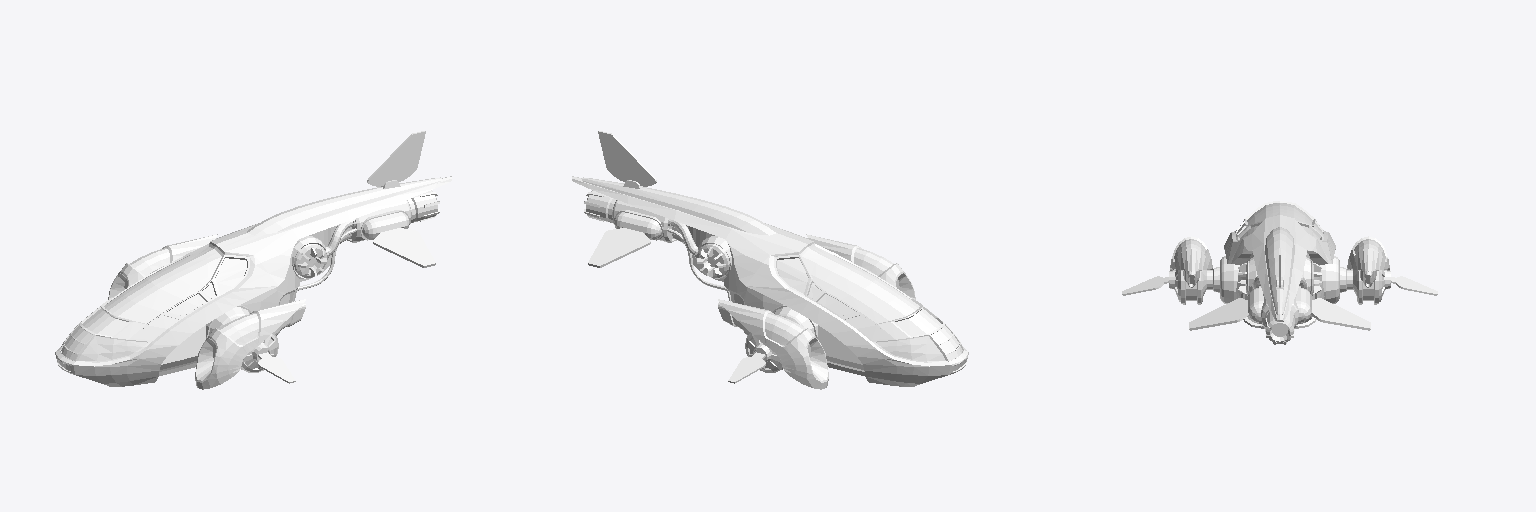
The model's file is Drone.obj.
3 renders of one model, left to right at view 1: azimuth 30°, elevation 25°; view 2: azimuth 150°, elevation 25°; view 3: azimuth 270°, elevation 25°, orthographic.
Parts seen in each view (by area): view 1: Ship_Type_3_Sphere.005; view 2: Ship_Type_3_Sphere.005; view 3: Ship_Type_3_Sphere.005.
Part boxes in pixels (left/top/right/bottom): Ship_Type_3_Sphere.005: left=55, top=131, right=451, bottom=389; Ship_Type_3_Sphere.005: left=572, top=131, right=968, bottom=389; Ship_Type_3_Sphere.005: left=1122, top=201, right=1437, bottom=344.
Size of the model in its own units: 0.8613 by 0.3519 by 0.5999.